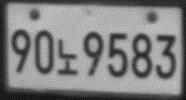0: (33, 30, 55, 75)
3: (155, 34, 176, 80)
5: (107, 33, 129, 77)
8: (131, 32, 153, 79)
9: (82, 30, 105, 76), (10, 29, 31, 73)
노: (57, 39, 79, 77)
